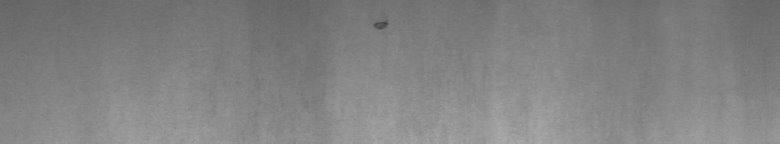fi: (373, 16, 391, 36)
